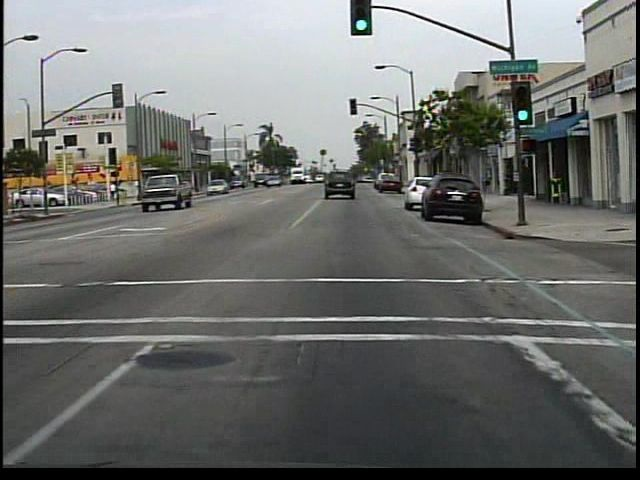person: (110, 180, 119, 205)
